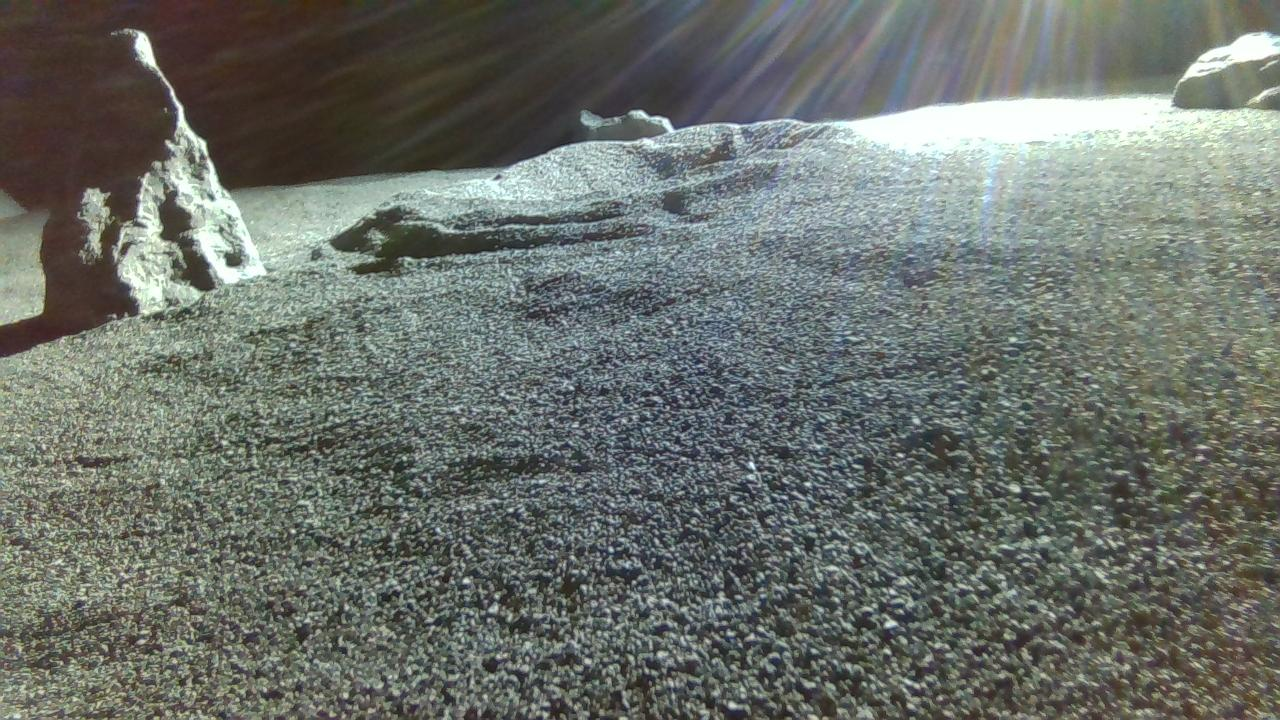rock: (40, 28, 264, 324), (1175, 30, 1280, 108), (575, 108, 675, 140), (0, 188, 25, 218)
